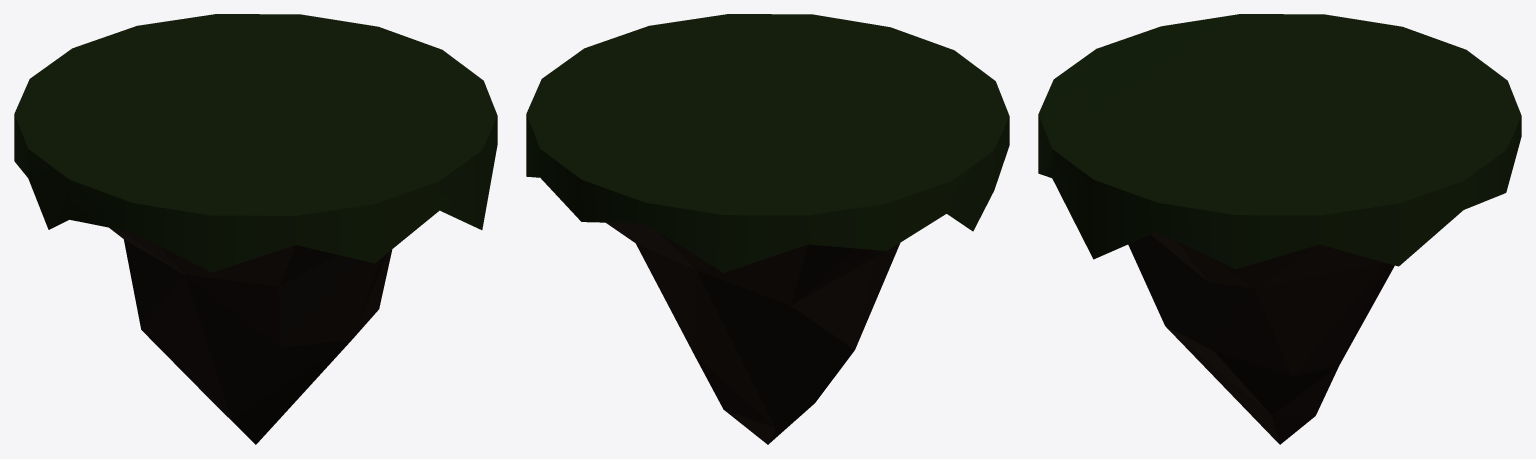
The model's file is island 1.FBX.
3 renders of one model, left to right at view 1: azimuth 30°, elevation 25°; view 2: azimuth 150°, elevation 25°; view 3: azimuth 270°, elevation 25°, orthographic.
Parts seen in each view (by area): view 1: Grass.Grass02, ground.ground02; view 2: Grass.Grass02, ground.ground02; view 3: Grass.Grass02, ground.ground02.
Part boxes in pixels (box(x1,y1,x2,y2)): Grass.Grass02: box(14, 14, 497, 272); ground.ground02: box(109, 227, 392, 444); Grass.Grass02: box(526, 14, 1009, 272); ground.ground02: box(606, 222, 900, 444); Grass.Grass02: box(1038, 14, 1521, 269); ground.ground02: box(1128, 231, 1394, 444).
Size of the model in its own units: 236 by 180 by 239.
